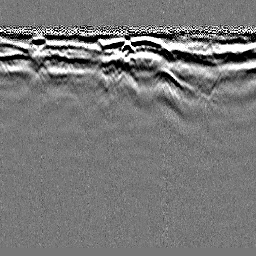cavity: (121, 39, 135, 52)
